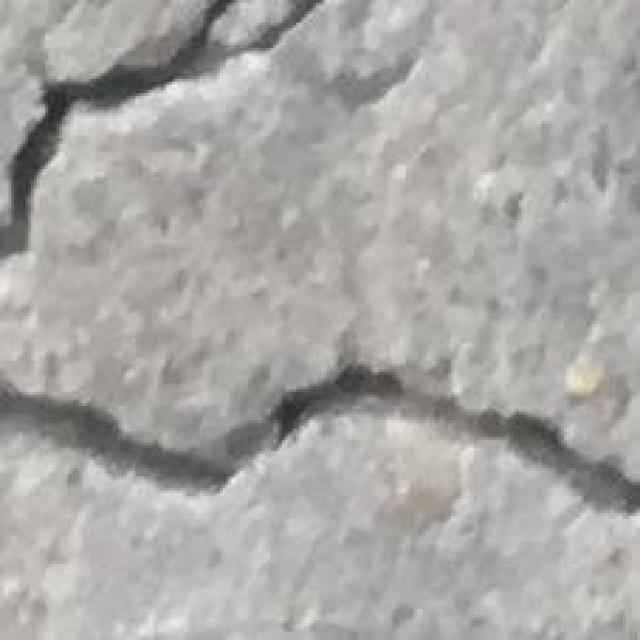horizontal crack: (0, 364, 640, 513)
multi-branched crack: (0, 3, 332, 245)
